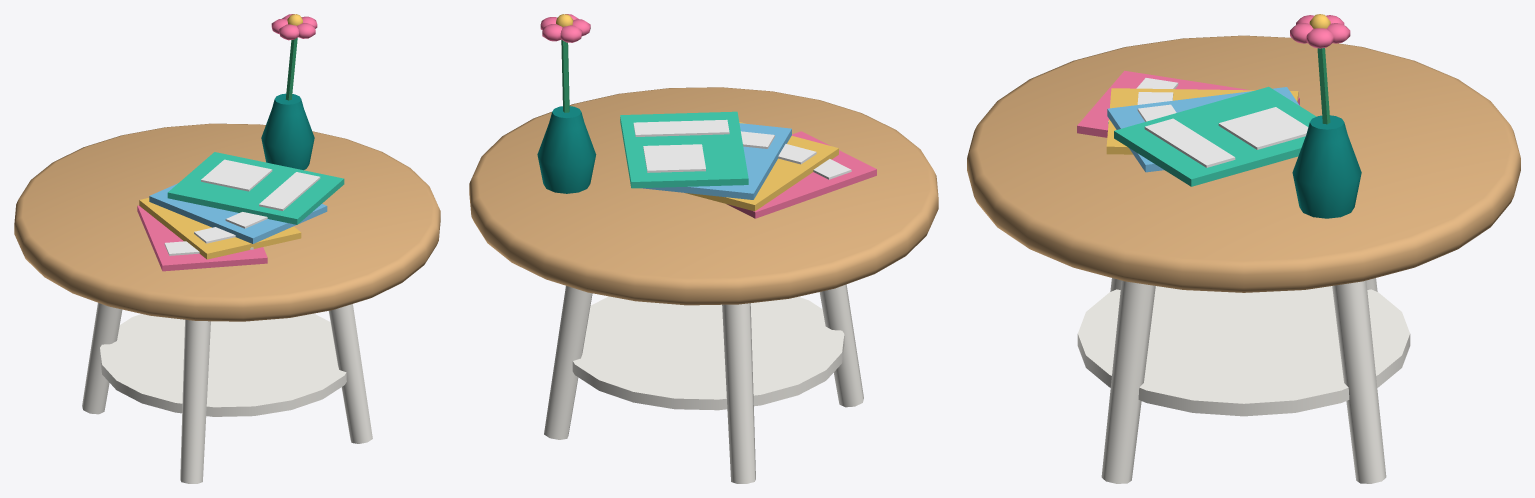
The model's file is magazine_table.glb.
3 renders of one model, left to right at view 1: azimuth 30°, elevation 25°; view 2: azimuth 150°, elevation 25°; view 3: azimuth 270°, elevation 25°, orthographic. The views are drawn at different scales.
Parts seen in each view (by area): view 1: MagazineTable; view 2: MagazineTable; view 3: MagazineTable.
Part boxes in pixels (<box>): MagazineTable: <box>14,14,440,483</box>; MagazineTable: <box>469,14,938,483</box>; MagazineTable: <box>967,14,1520,483</box>.
Size of the model in its own units: 0.8 by 0.7553 by 0.8.
